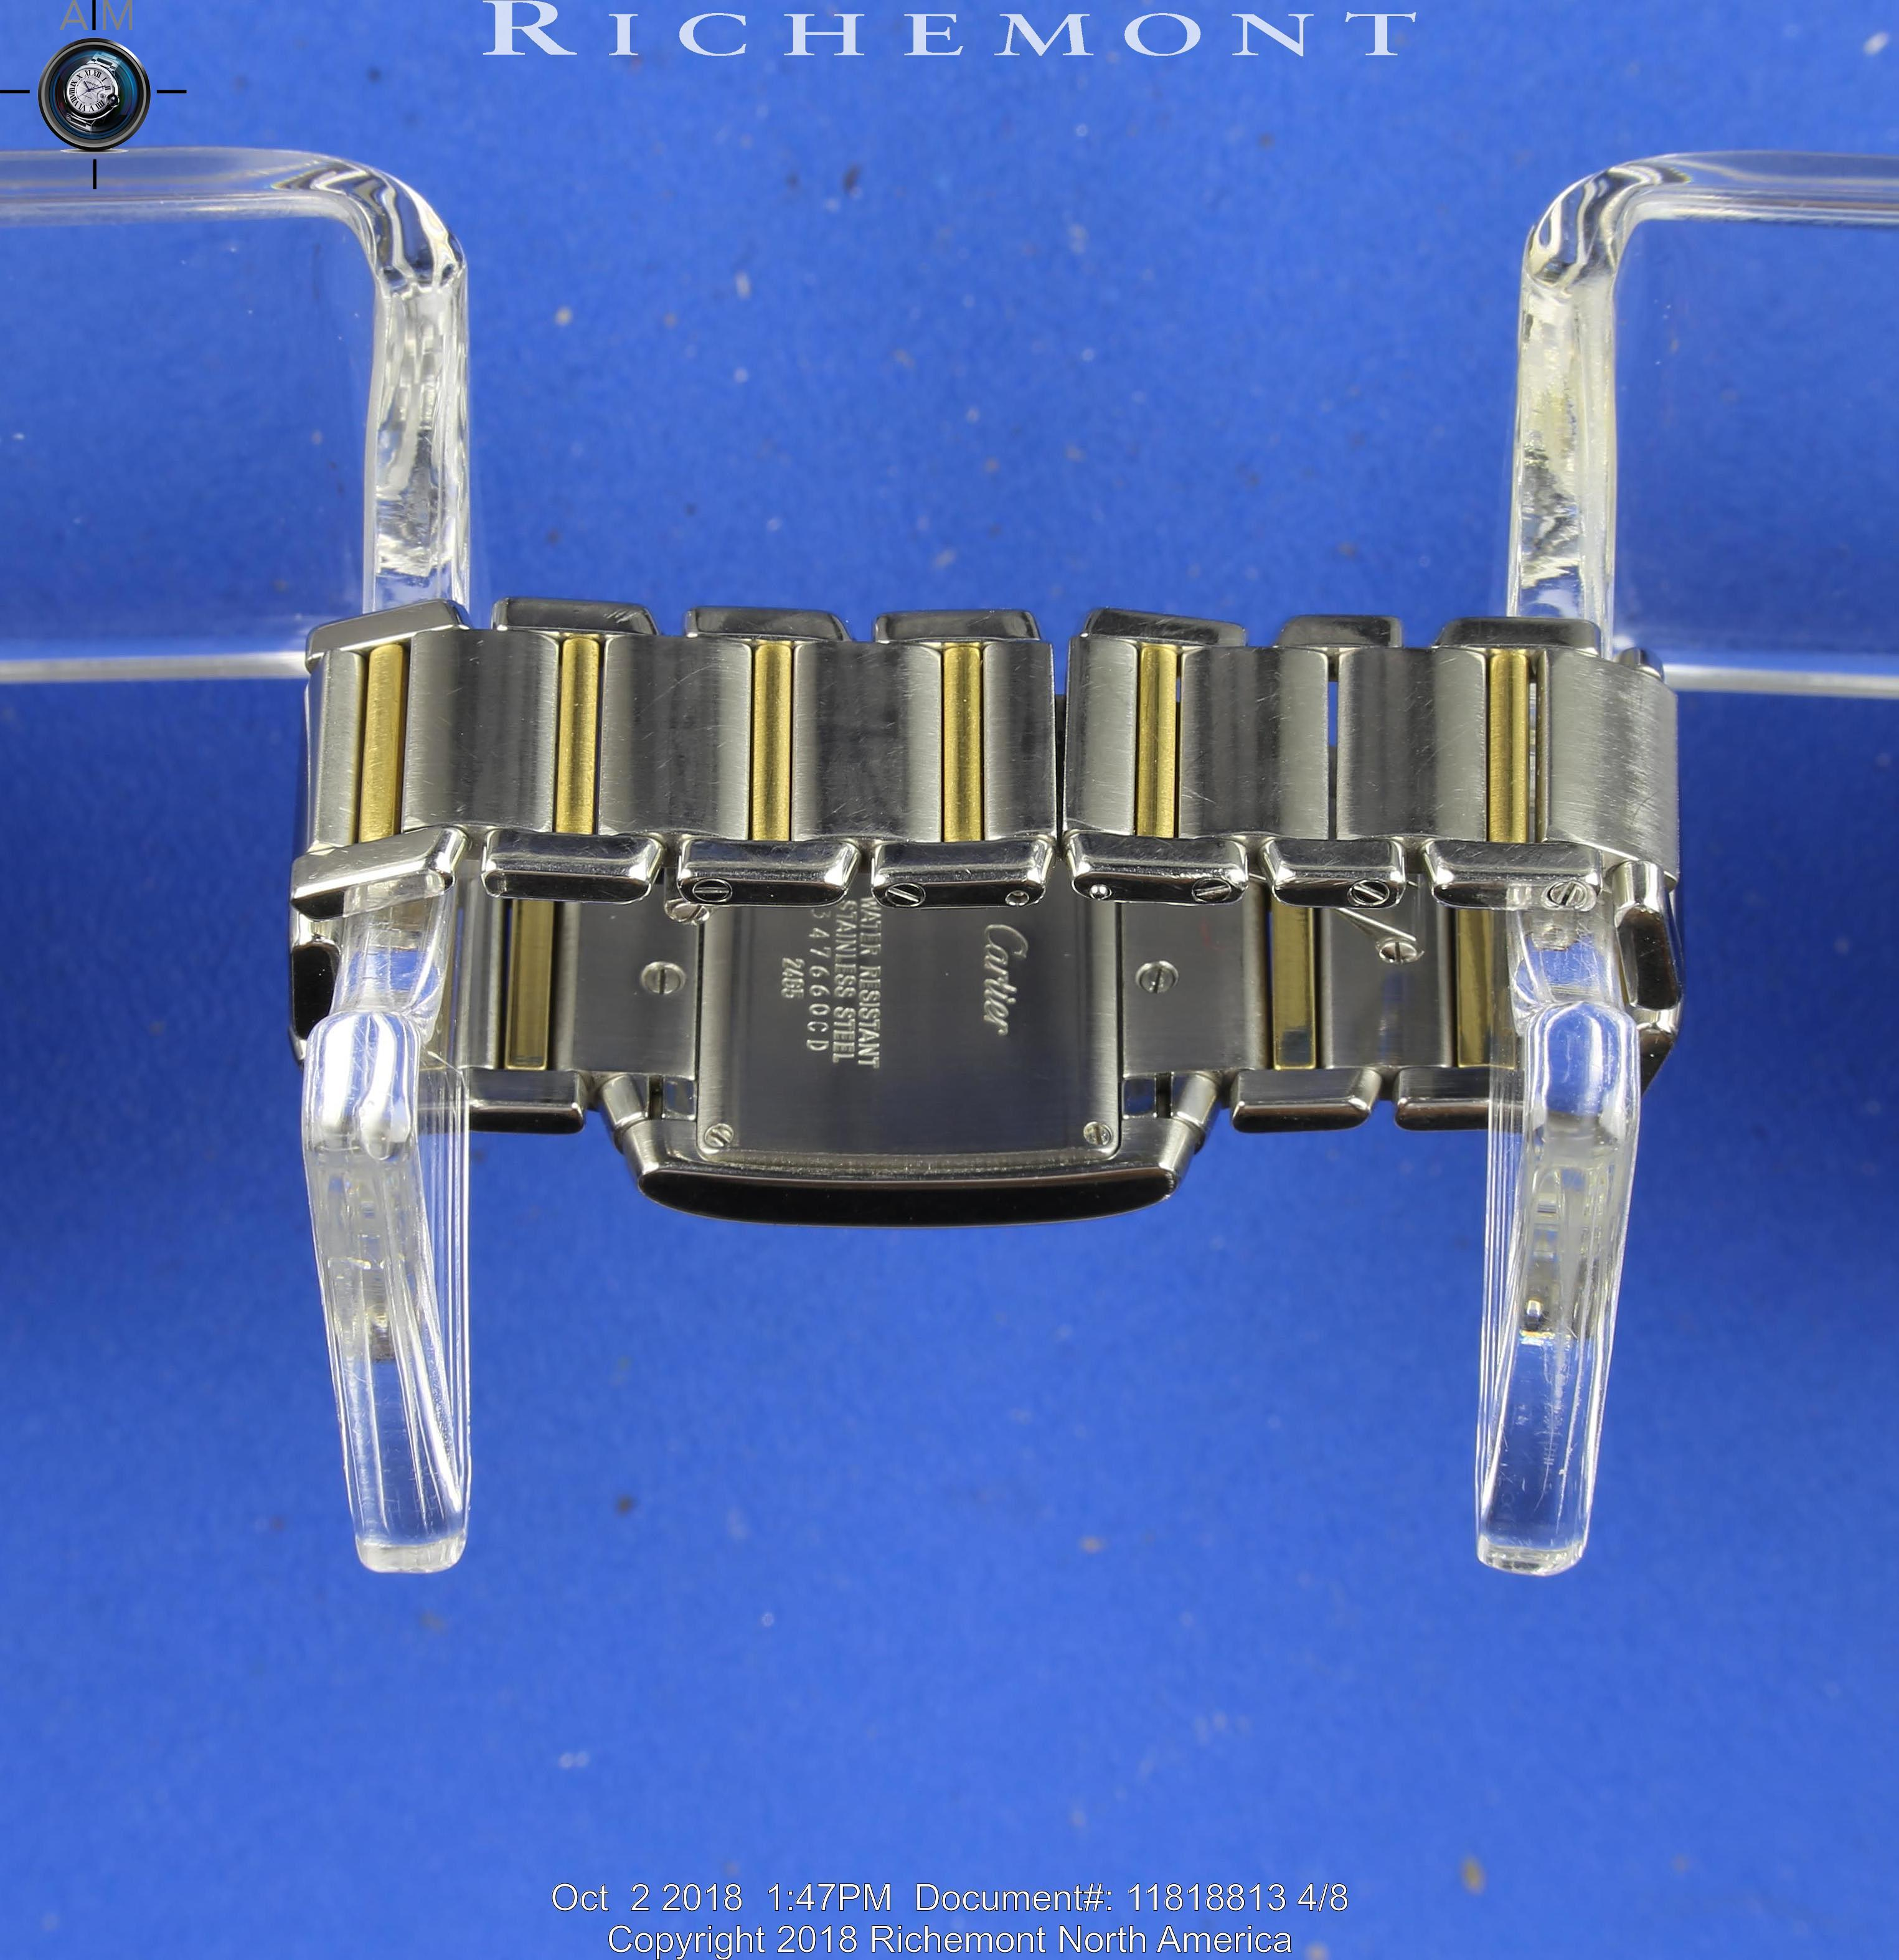watchback: (613, 849, 1197, 1136)
